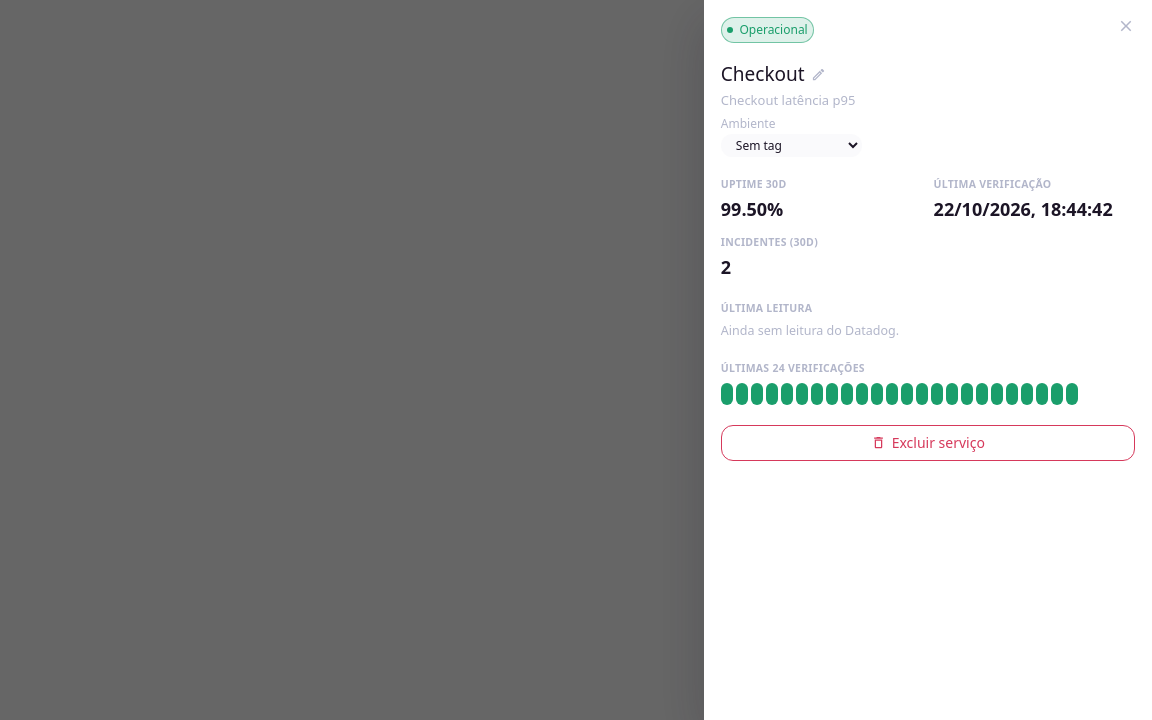
ServiceDetailDrawer › owner can change the environment tag from the drawer (SET-03/SET-05)
The width and height of the screenshot is (1152, 720).
Expected: the heading "Checkout" is shown, [721,60,805,88]
Select "Staging" in the dropdown labelled "Ambiente". click: (791,146)
box: [721,134,862,157]
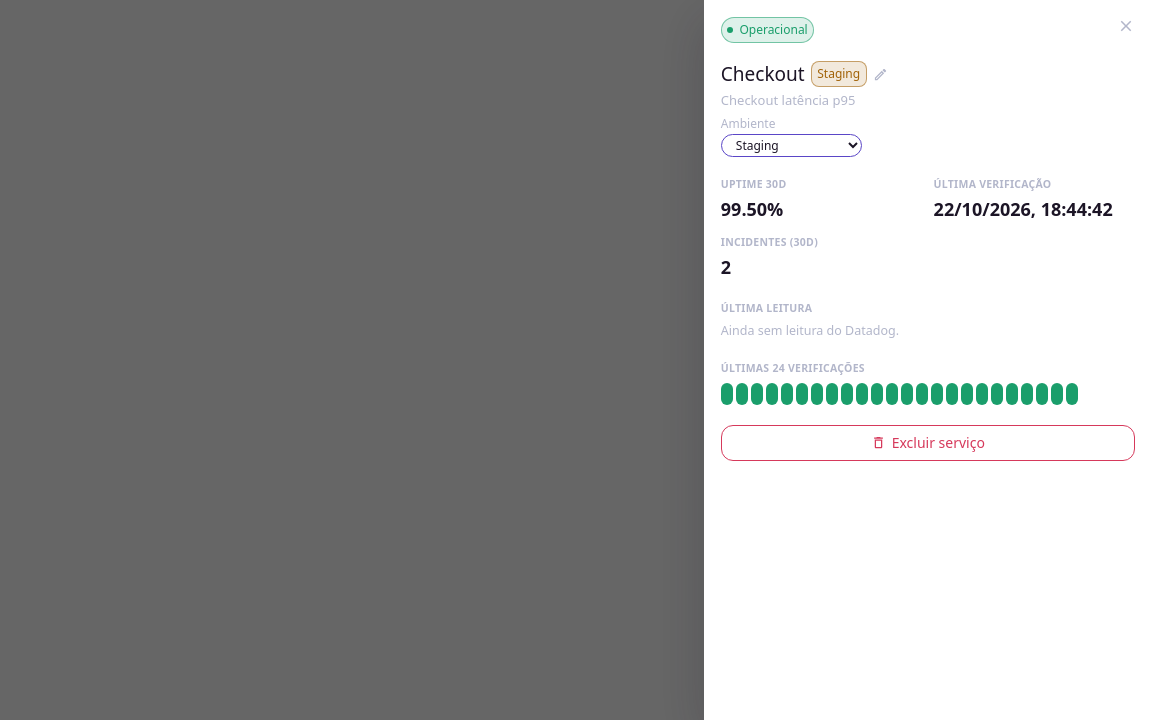
Expected: the text with test id "environment-badge" reads "Staging", [817,65,860,82]
